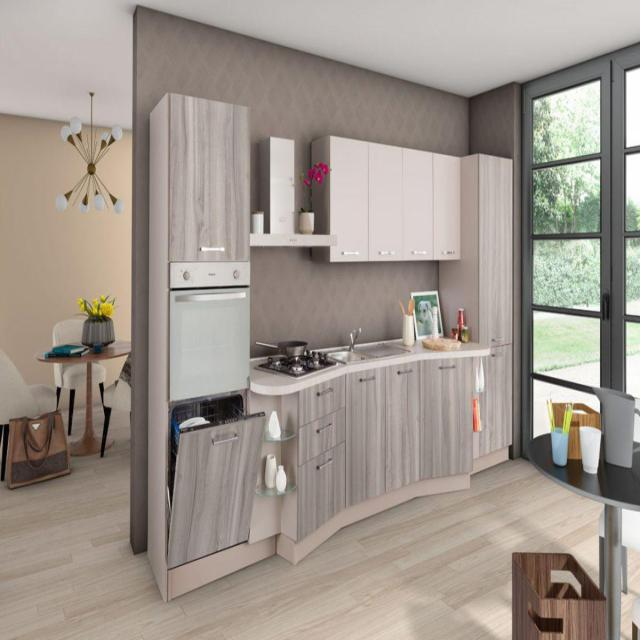dishwasher: (168, 402, 266, 570)
